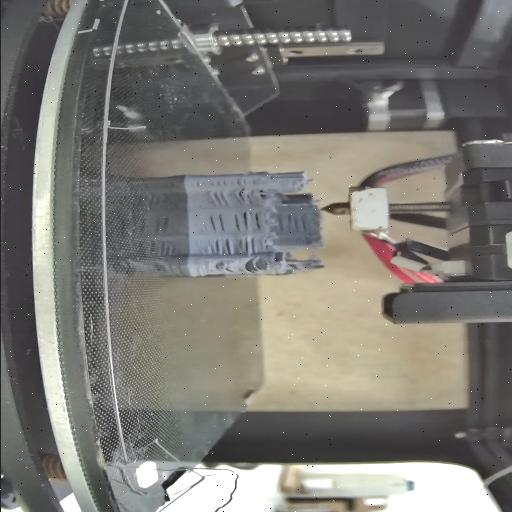cracks: (206, 212, 260, 235), (205, 237, 257, 257), (276, 214, 314, 234), (194, 178, 254, 188), (206, 190, 230, 208), (233, 190, 255, 208), (246, 260, 266, 274), (220, 266, 236, 274), (262, 175, 280, 182)
